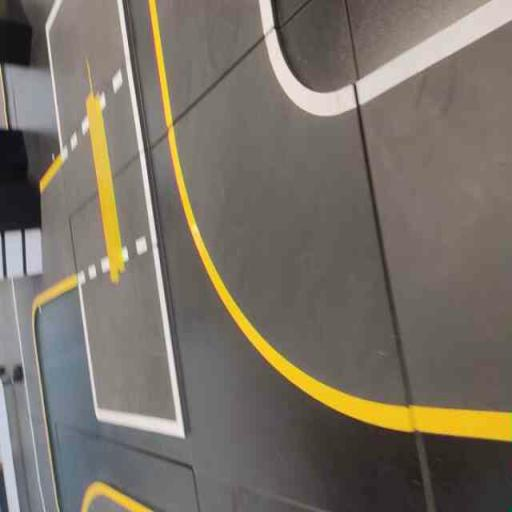right: (151, 1, 417, 444)
